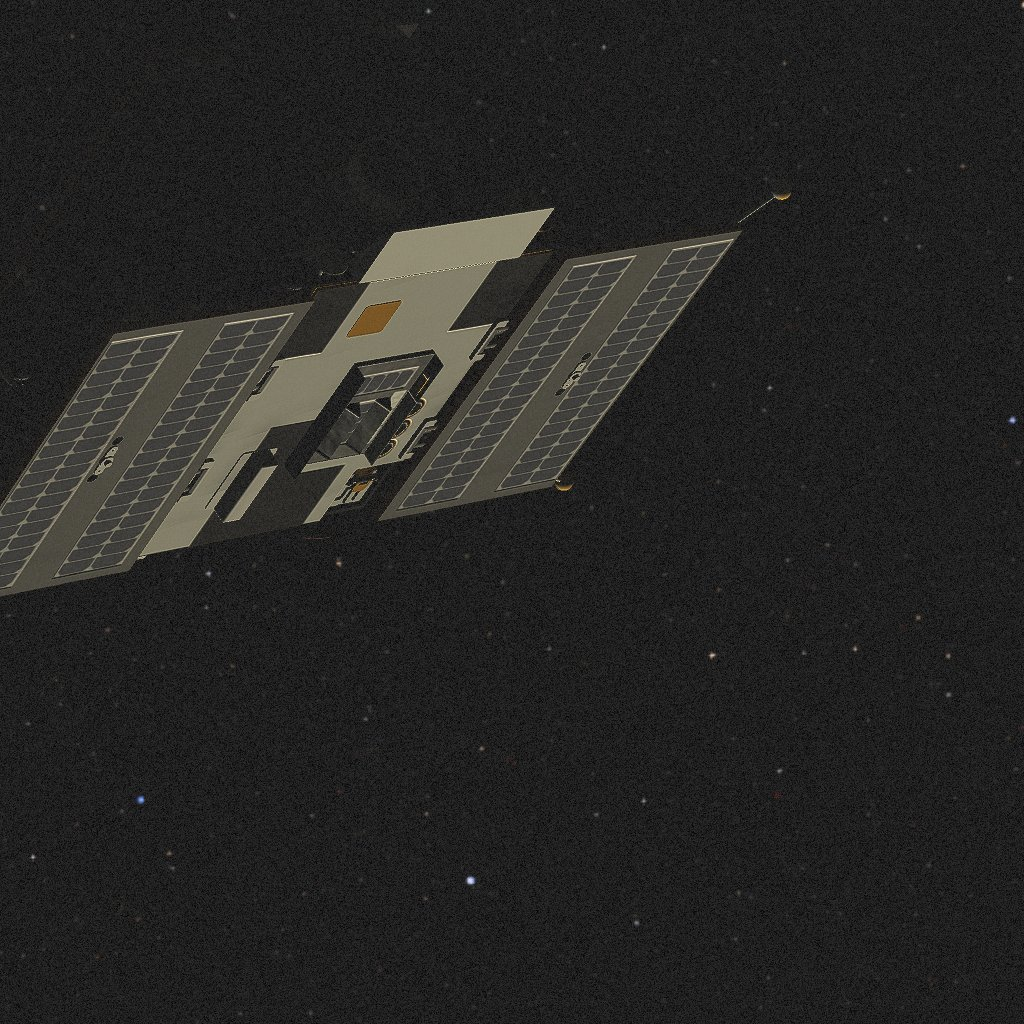proba_2: (0, 0, 792, 596)
